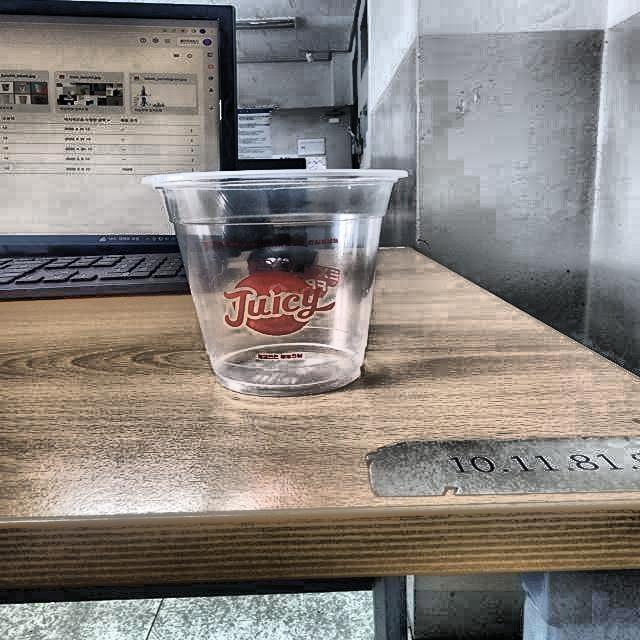plastic cup: (138, 167, 412, 396)
